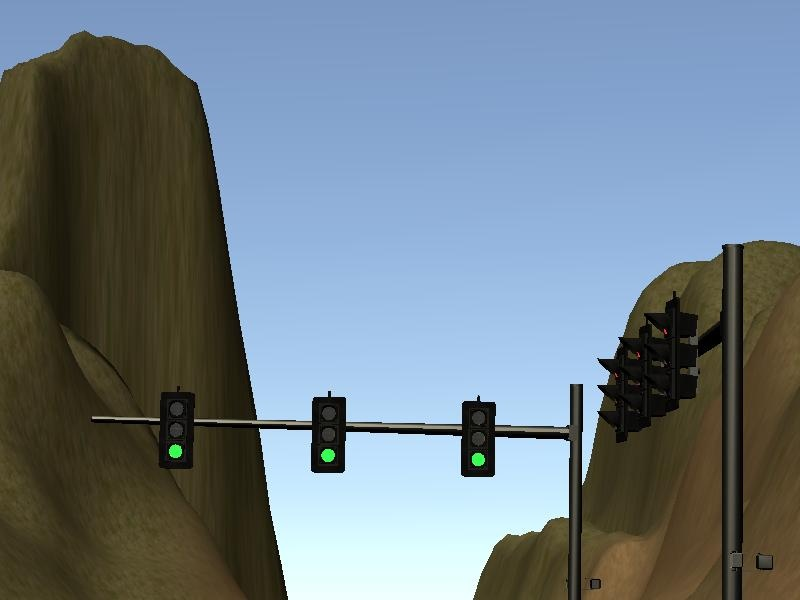GREEN: (158, 393, 193, 471), (311, 397, 346, 475), (460, 400, 495, 478)
